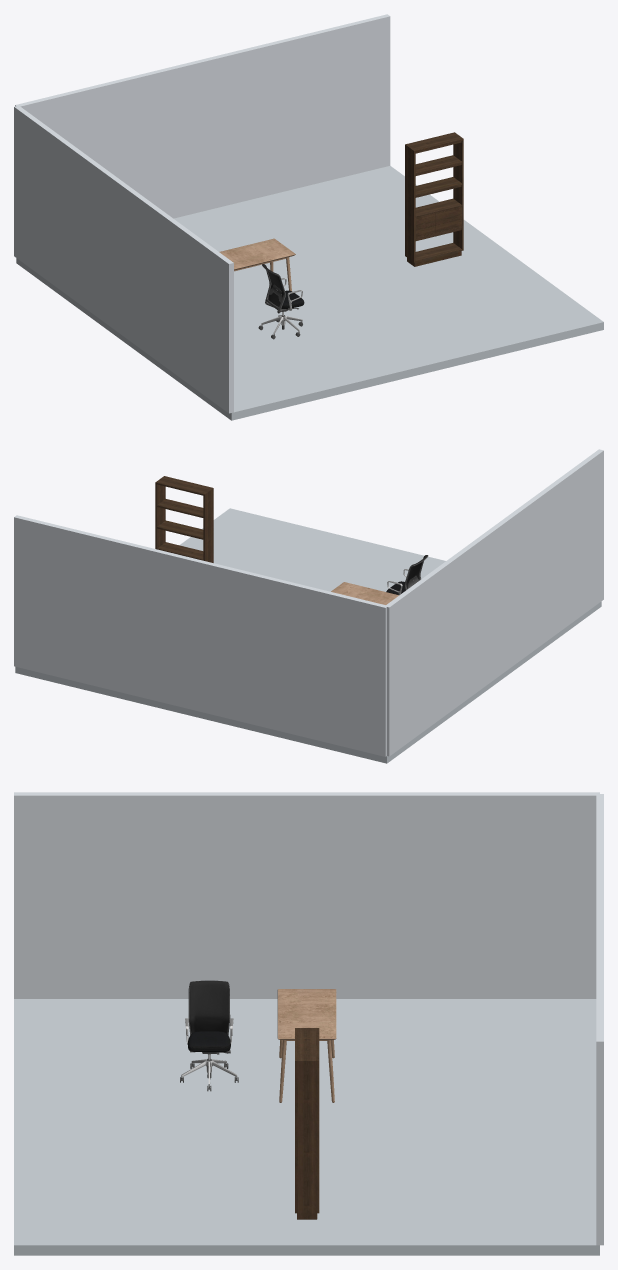
Rendered from stage1.glb.
The picture shows the model from 3 angles, top to bottom: view 1: azimuth 30°, elevation 25°; view 2: azimuth 150°, elevation 25°; view 3: azimuth 270°, elevation 25°; orthographic projection. The views are drawn at different scales.
Visible parts, largest first — view 1: Floor, wall_back, wall_left, raw_model.002, raw_model, raw_model.001; view 2: wall_back, wall_left, Floor, raw_model.002, raw_model, raw_model.001; view 3: Floor, wall_left, raw_model.002, raw_model.001, wall_back, raw_model.
Boxes of the visible parts, bbox=[...] form: Floor: bbox=[16, 165, 603, 420]; wall_back: bbox=[15, 14, 390, 218]; wall_left: bbox=[14, 105, 233, 413]; raw_model.002: bbox=[405, 132, 463, 266]; raw_model: bbox=[219, 238, 295, 291]; raw_model.001: bbox=[258, 264, 304, 339]; wall_back: bbox=[14, 515, 387, 756]; wall_left: bbox=[386, 449, 603, 756]; Floor: bbox=[15, 508, 601, 763]; raw_model.002: bbox=[155, 476, 213, 562]; raw_model: bbox=[331, 582, 398, 604]; raw_model.001: bbox=[386, 555, 428, 595]; Floor: bbox=[14, 999, 599, 1255]; wall_left: bbox=[14, 792, 599, 998]; raw_model.002: bbox=[295, 1028, 319, 1219]; raw_model.001: bbox=[180, 980, 238, 1091]; wall_back: bbox=[596, 794, 603, 1245]; raw_model: bbox=[277, 989, 336, 1102].
Size of the model in its own units: 6.04 by 2.42 by 6.04.
Materials: 5 (3 with a texture image).
